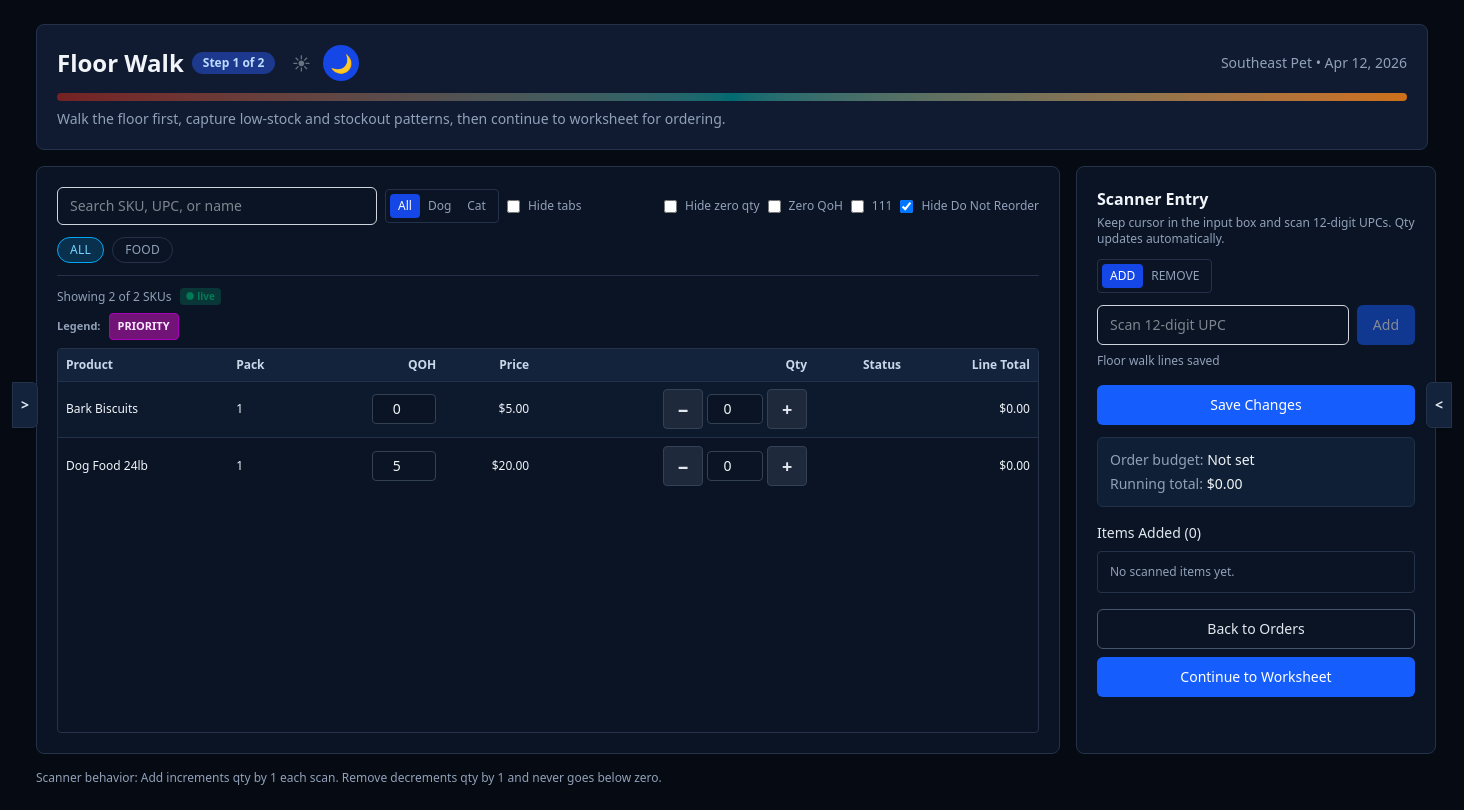
it: Floor Walk Search & Qty Controls › increment + button increases qty from 0 to 1
Expected: the text "Bark Biscuits" is shown, [58,381,228,437]
Click the button named "increase sku-001" at (787, 409), box [767,389,807,429]
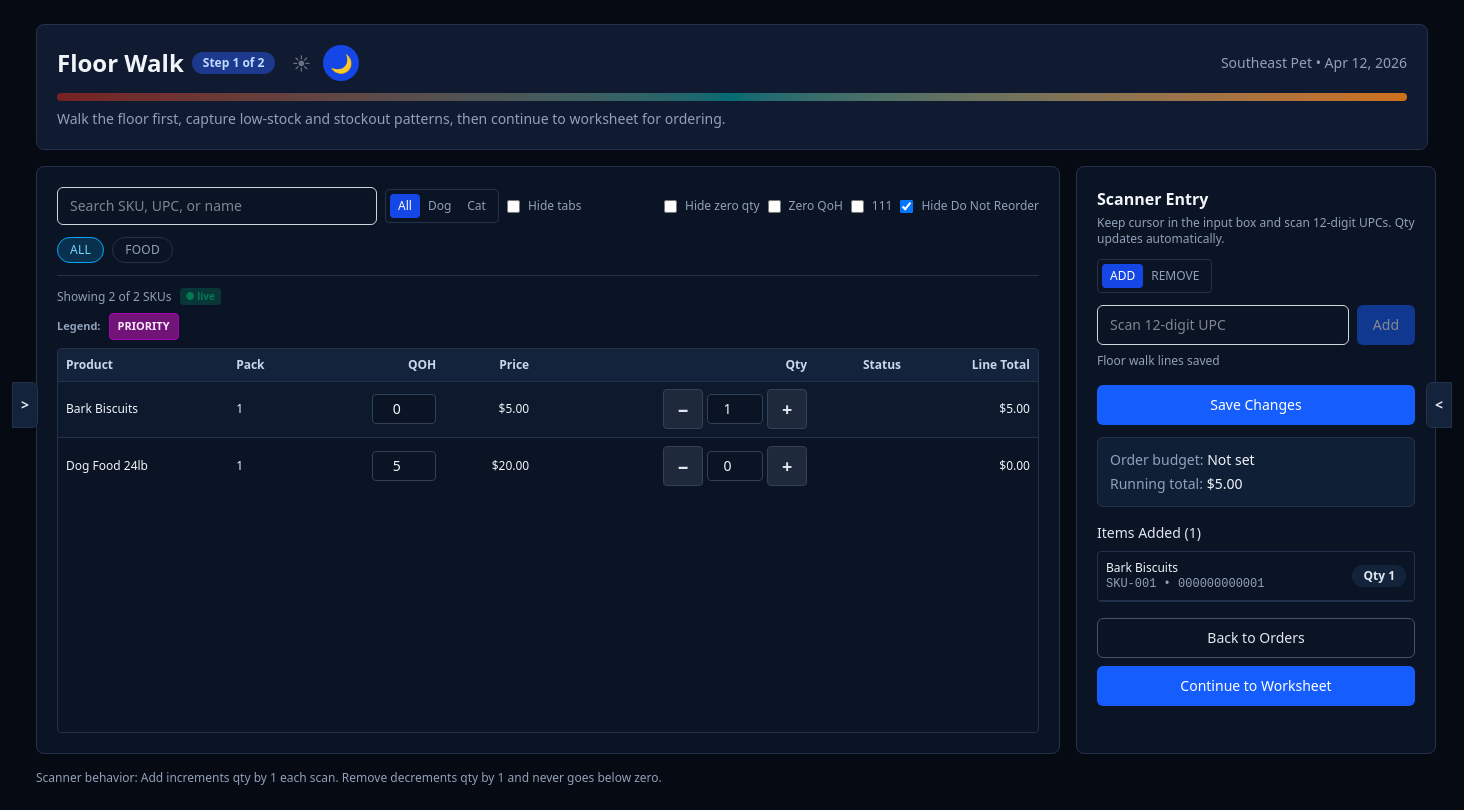
Now the 2nd number field holds "1", box [707,394,763,424]
